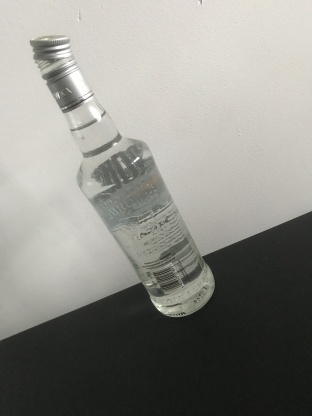nakretka: (27, 32, 95, 114)
